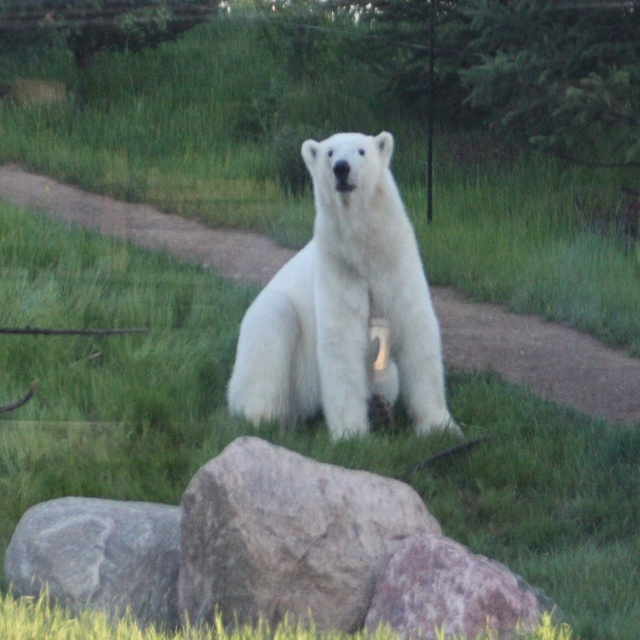Polar bear: (227, 130, 464, 439)
